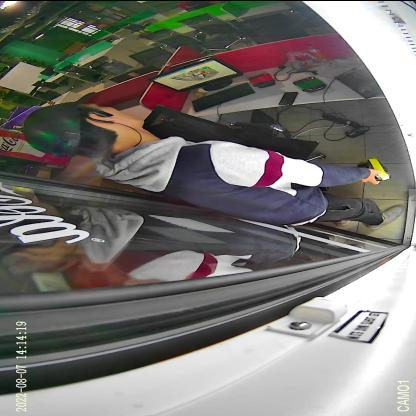yellow: (356, 157, 392, 180)
